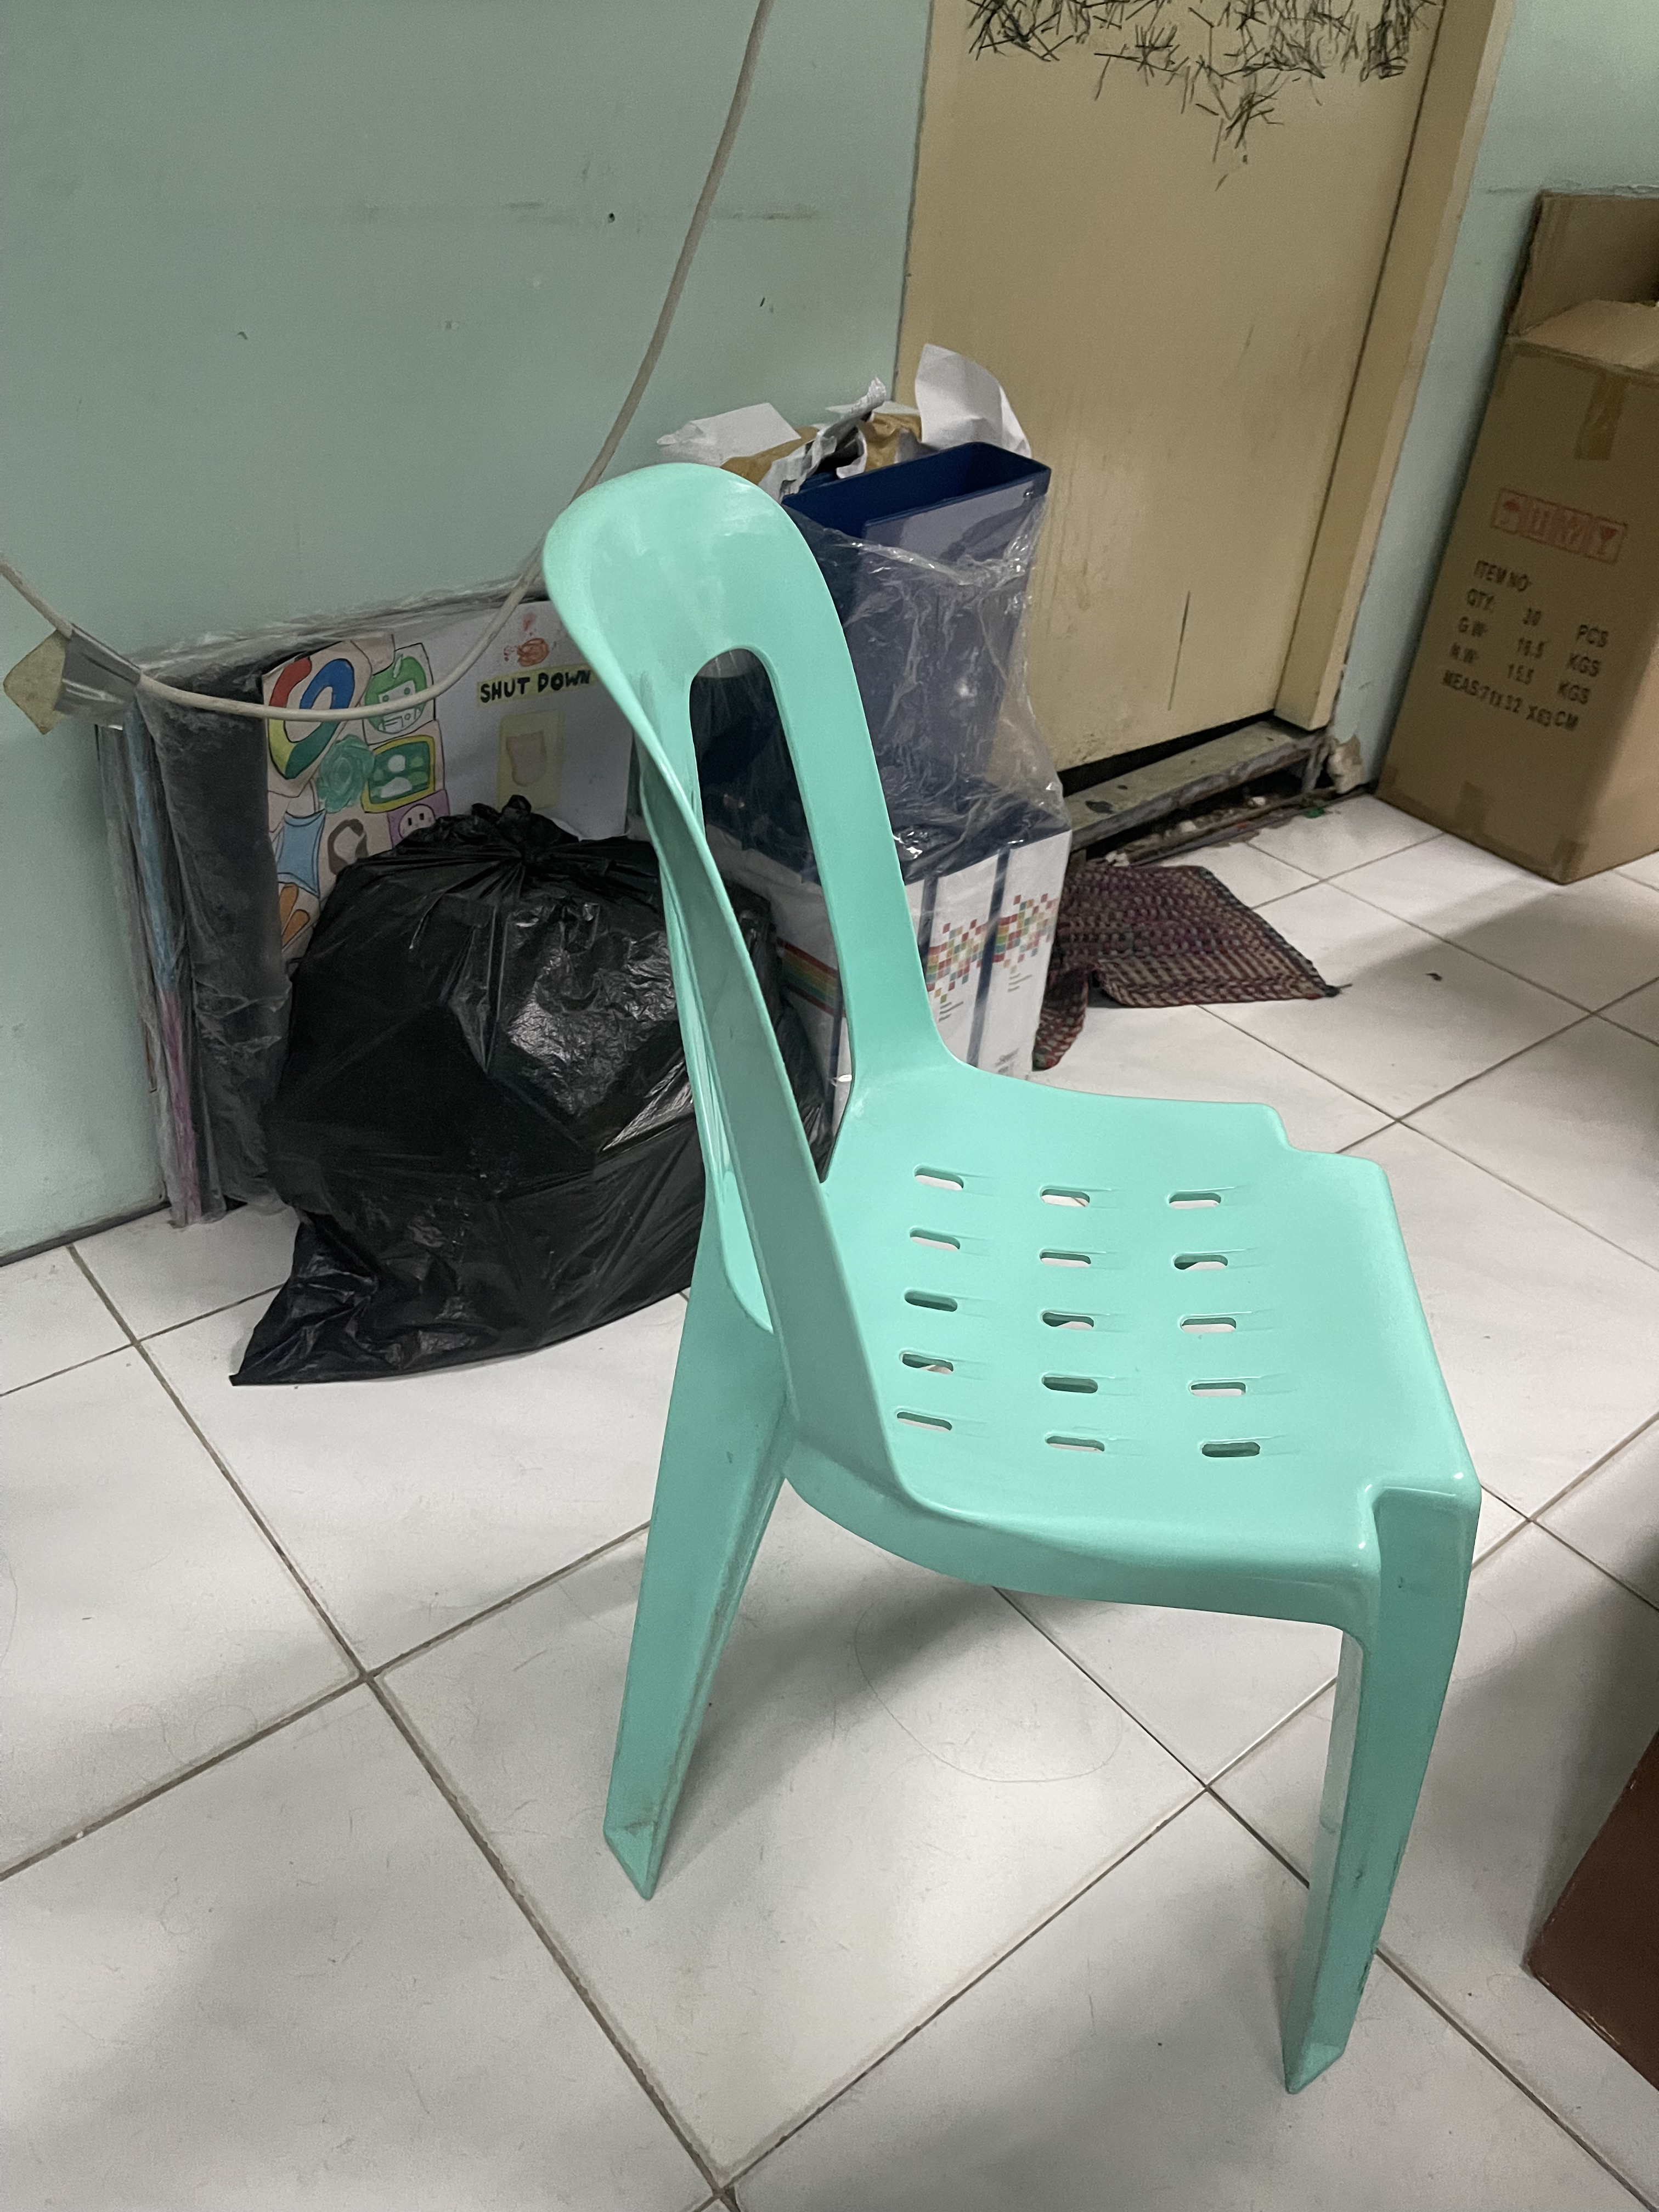chair2: (526, 442, 1490, 2137)
